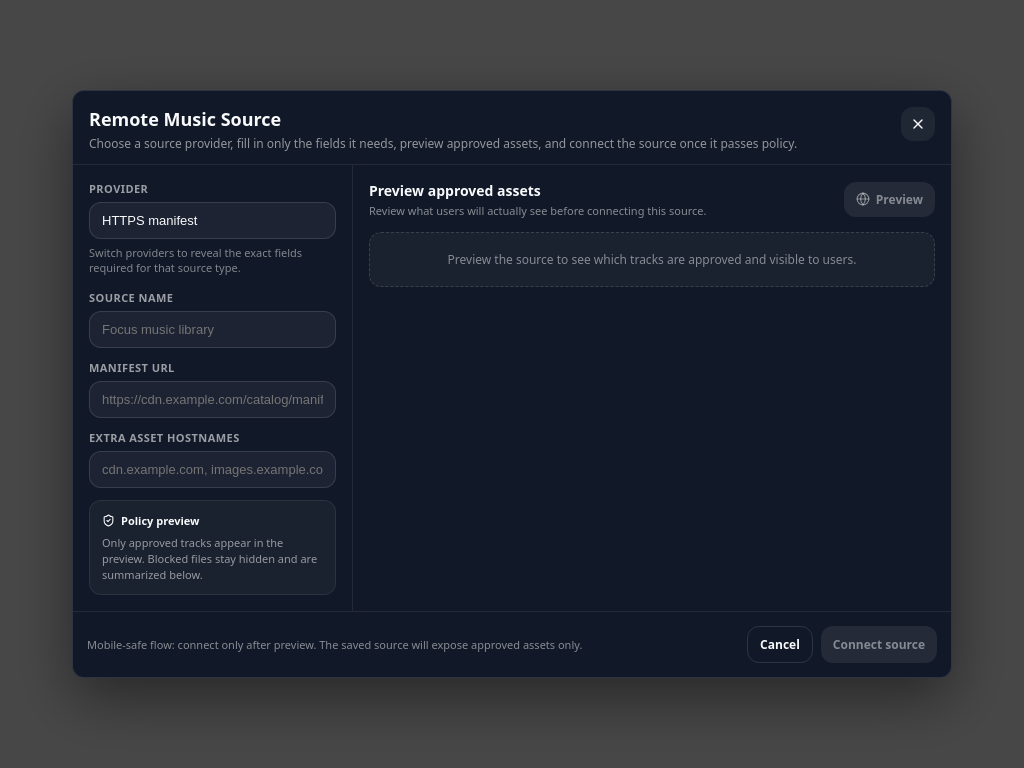
Test: switches provider-specific fields via the dropdown
Expected: the field with placeholder "https://cdn.example.com/catalog/manifest.json" is shown, [89,381,336,418]
Select "GitHub repository" in the dropdown at [212, 220], box [89,202,336,239]
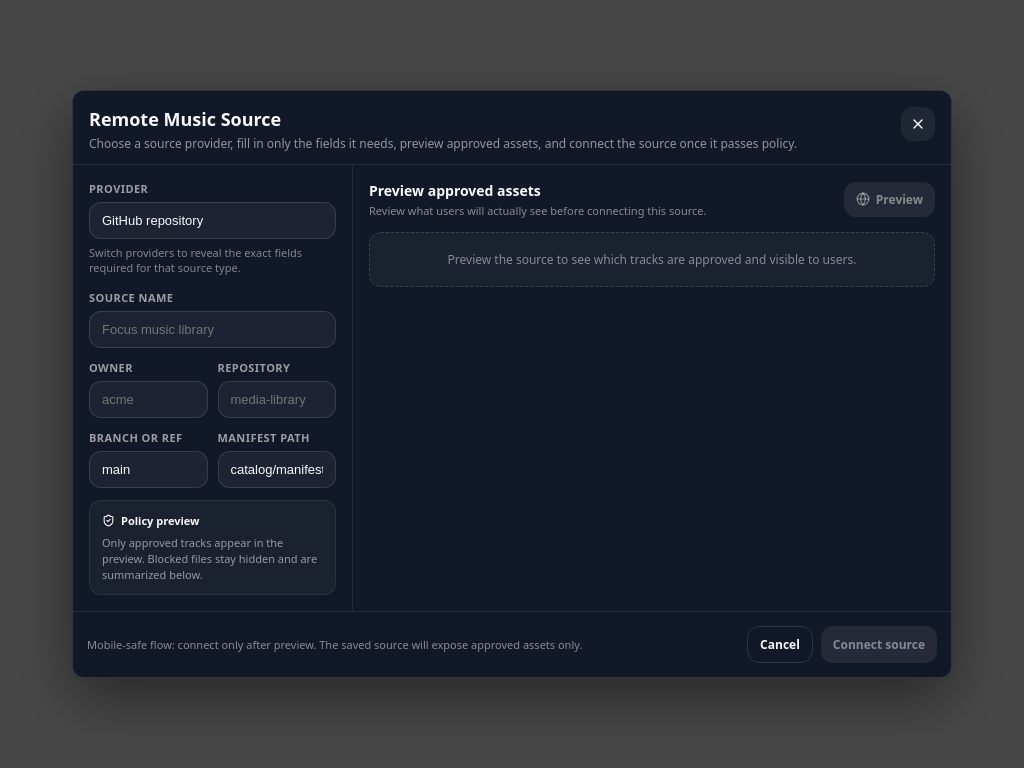
Expected: the field with placeholder "https://cdn.example.com/catalog/manifest.json" is not shown
Expected: the field with placeholder "acme" is shown, [89,381,208,418]
Expected: the field with placeholder "media-library" is shown, [218,381,336,418]
